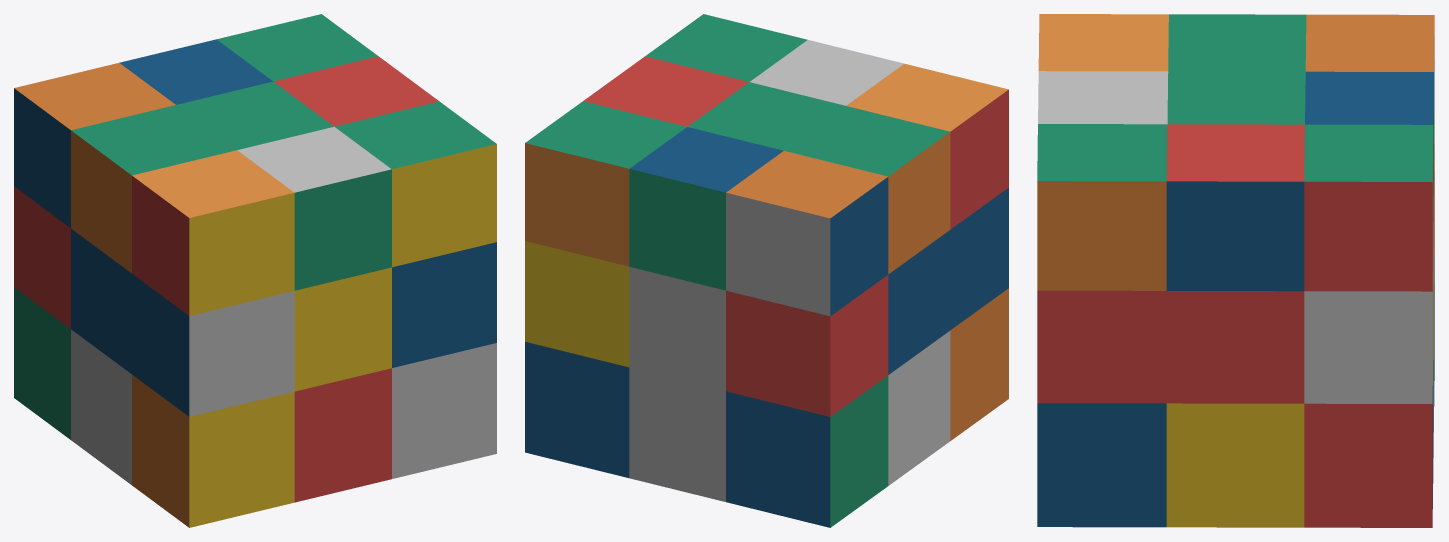
Rendered from SO_RubixCube.fbx.
3 renders of one model, left to right at view 1: azimuth 30°, elevation 25°; view 2: azimuth 150°, elevation 25°; view 3: azimuth 270°, elevation 25°, orthographic. The views are drawn at different scales.
Visible parts, largest first — view 1: SO_RubixCube; view 2: SO_RubixCube; view 3: SO_RubixCube.
Part boxes in pixels (box(x1,y1,x2,y2)): SO_RubixCube: box(14, 14, 496, 527); SO_RubixCube: box(525, 14, 1008, 527); SO_RubixCube: box(1037, 14, 1434, 527).
Bounding box in the file's own units: 0.217 × 0.2084 × 0.217.
